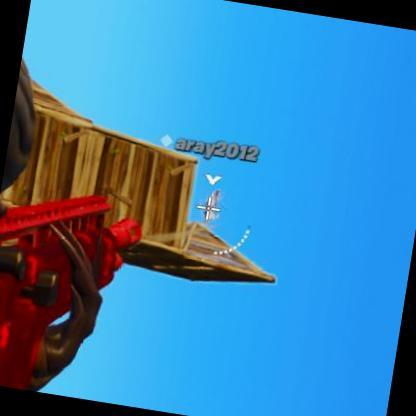person: (202, 187, 225, 237)
